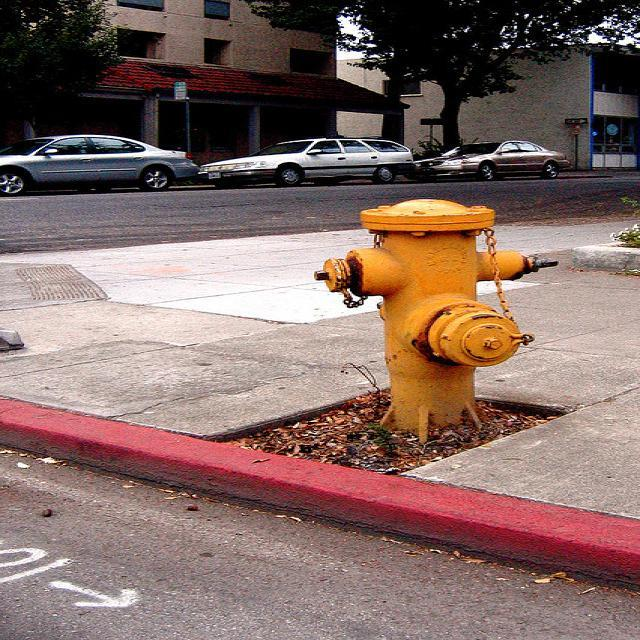fire_hydrant: (310, 196, 560, 446)
